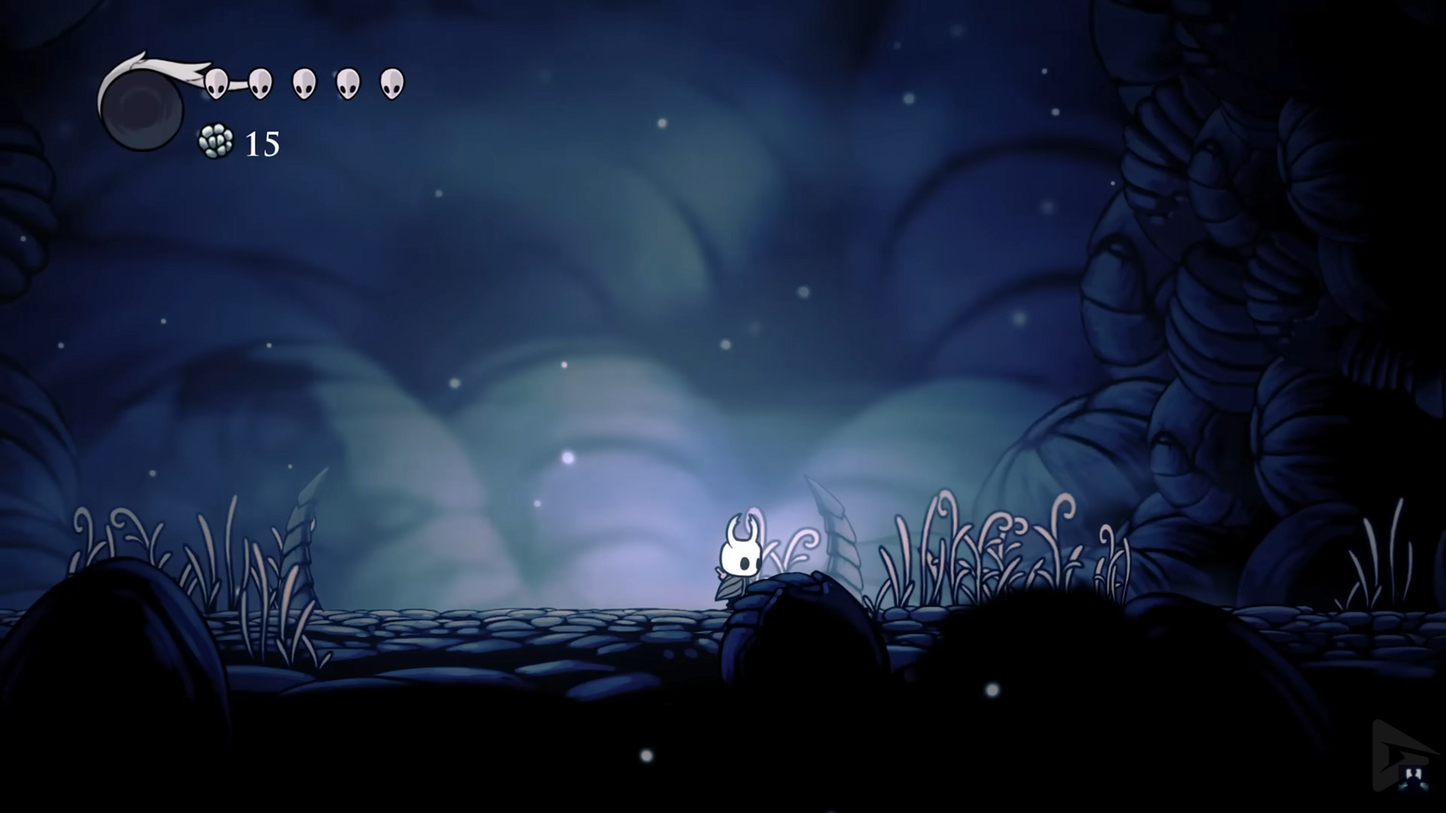HK: (709, 512, 769, 613)
